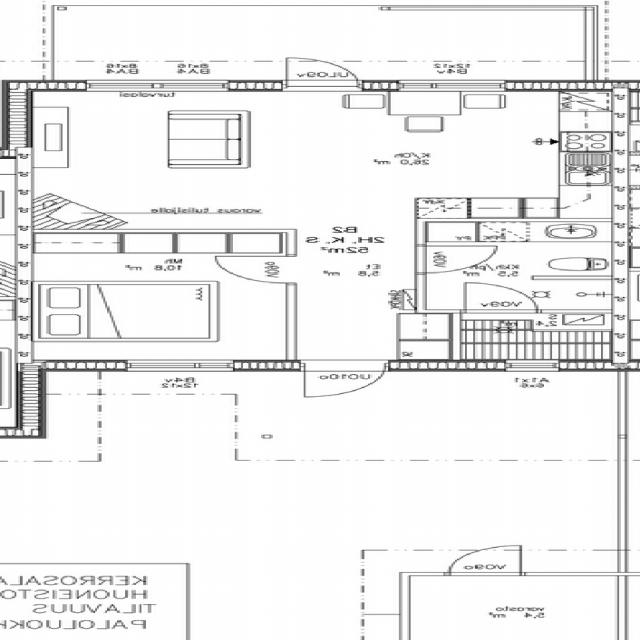door: (305, 360, 386, 402), (286, 53, 359, 91), (214, 256, 297, 284), (415, 246, 500, 273), (466, 282, 538, 313), (451, 546, 522, 576)
